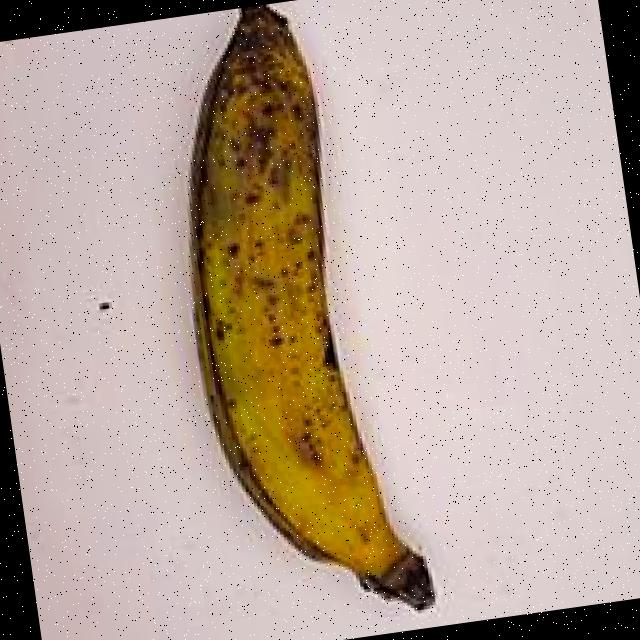Overripe: (116, 0, 485, 640)
